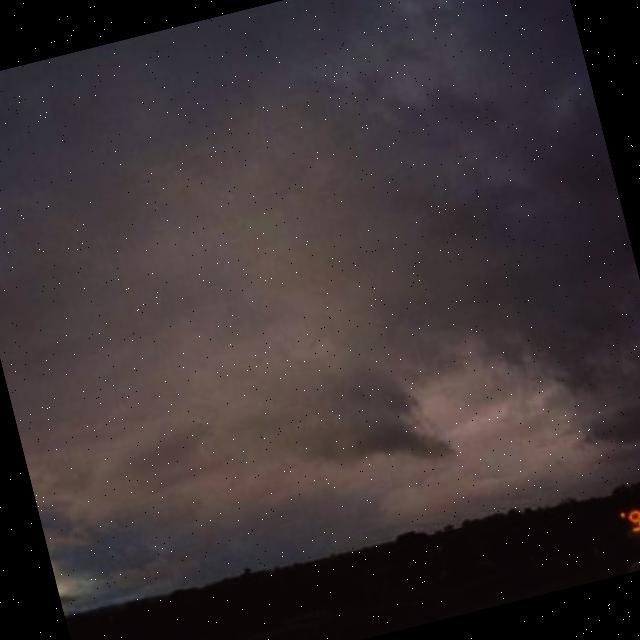St: (1, 1, 640, 596)
